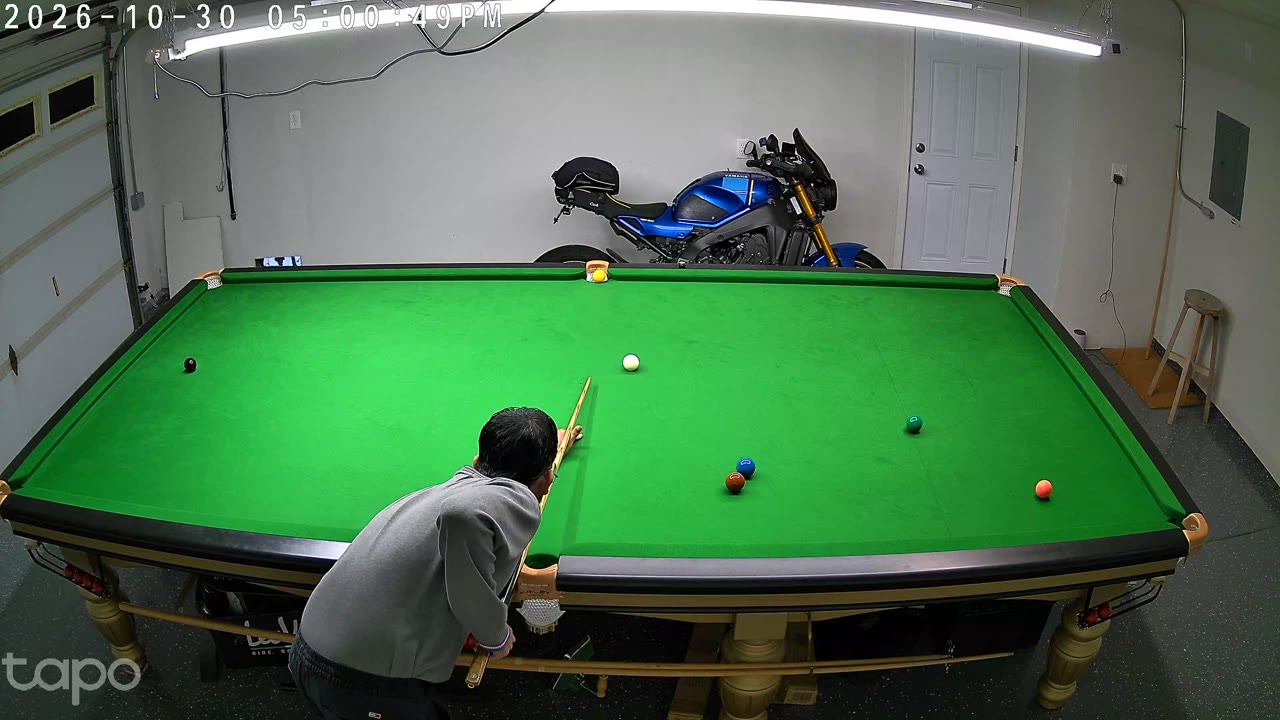black: (184, 356, 196, 376)
blue: (737, 456, 756, 482)
brown: (726, 472, 743, 496)
green: (906, 414, 922, 436)
pink: (1035, 478, 1052, 502)
white: (624, 352, 639, 374)
yellow: (592, 270, 606, 282)
